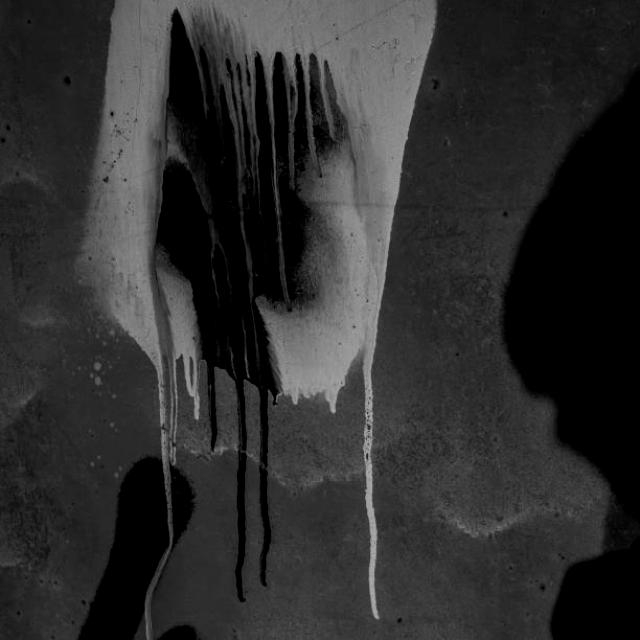paint drips: (135, 339, 391, 640), (147, 0, 360, 334)
